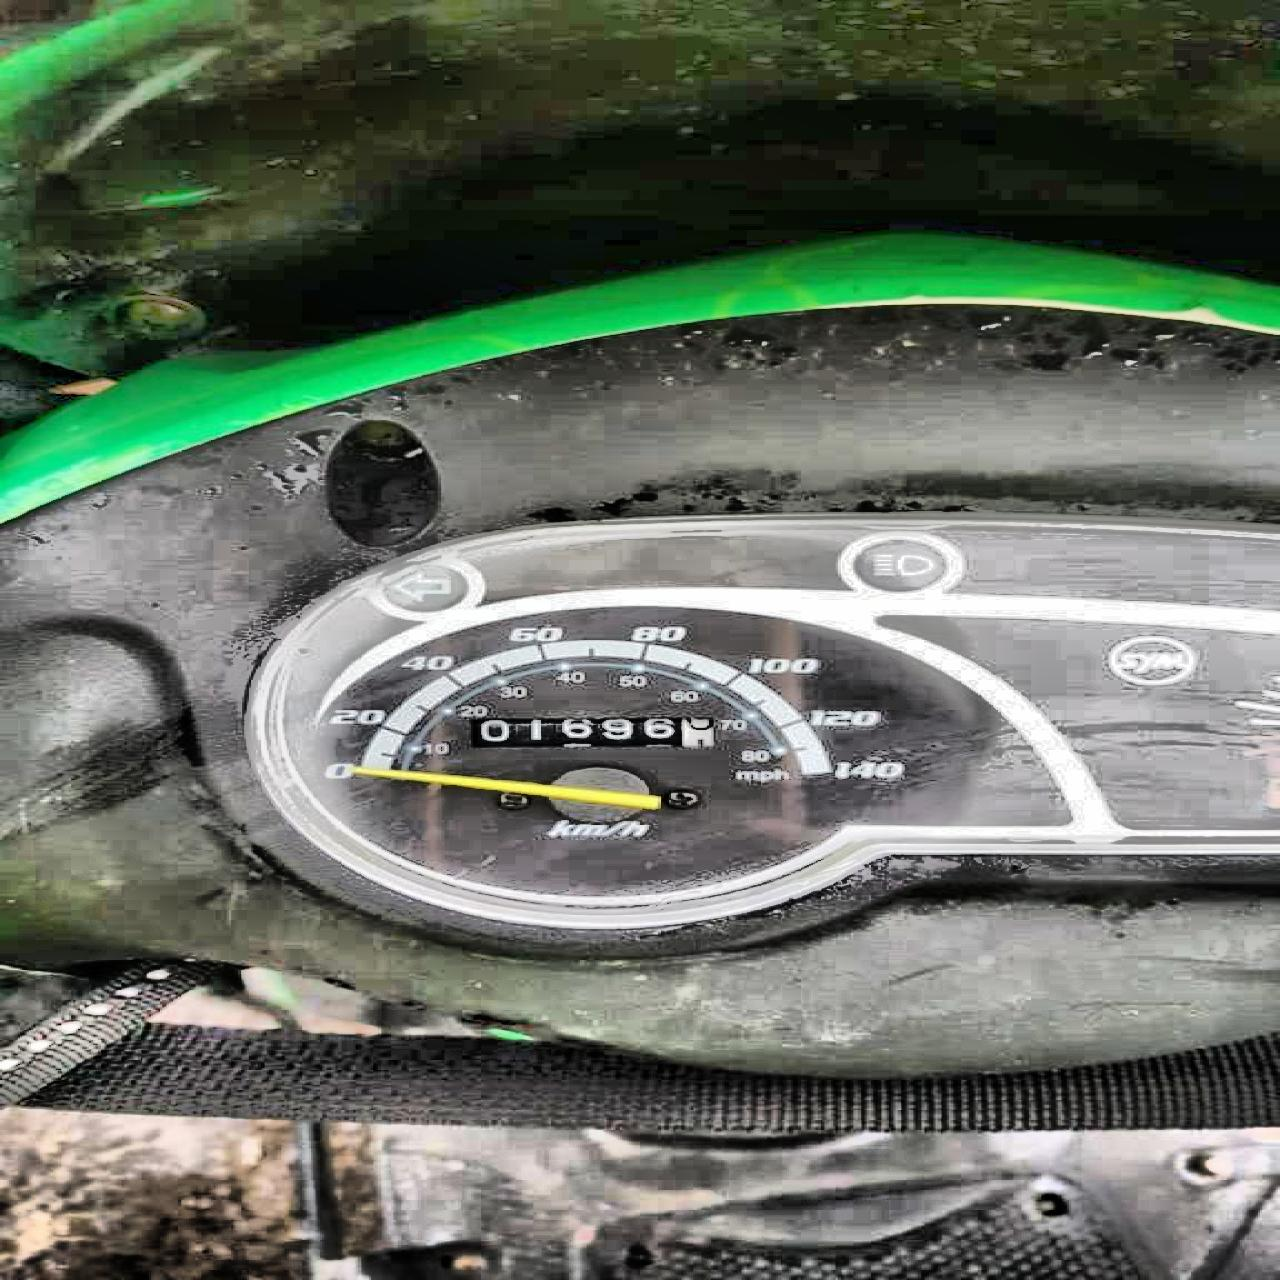0: (478, 719, 511, 742), (685, 715, 715, 731)
1: (524, 717, 545, 742)
6: (642, 717, 675, 742), (560, 716, 593, 737)
9: (598, 717, 632, 741)
odometer: (467, 716, 720, 748)
